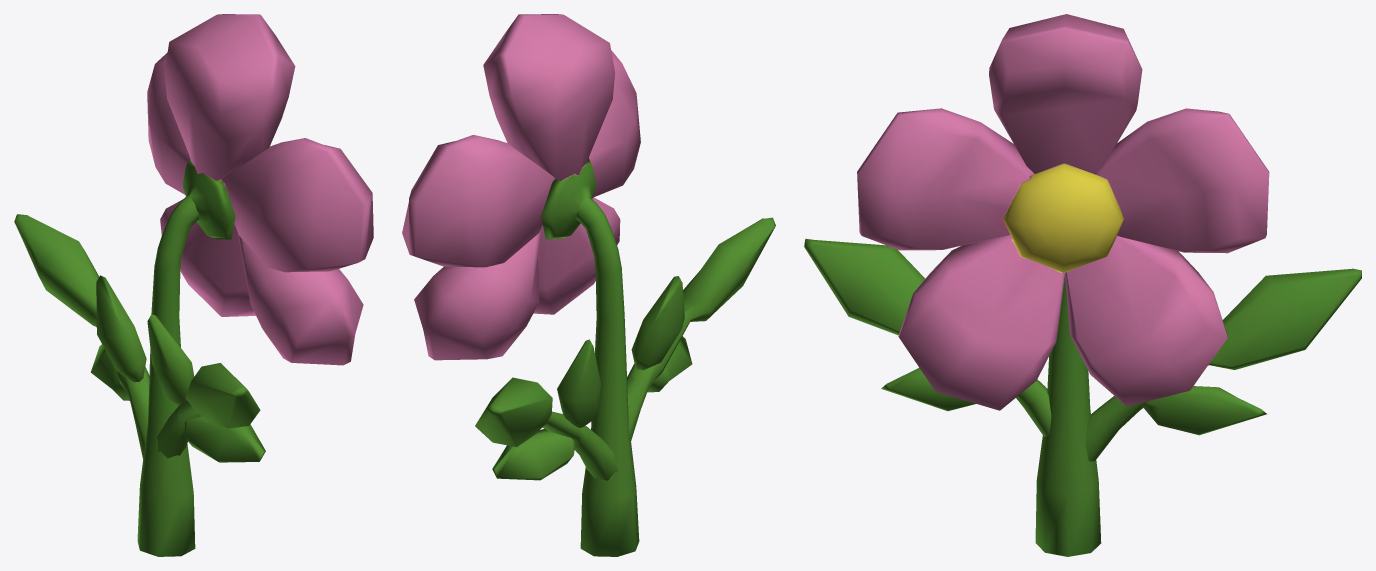
The model's file is 98f722b3-8eba-4d54-9059-19a11a6267e5_model.glb.
3 views of the same model, side by side, from view 1: azimuth 30°, elevation 25°; view 2: azimuth 150°, elevation 25°; view 3: azimuth 270°, elevation 25° (orthographic). The views are drawn at different scales.
Parts seen in each view (by area): view 1: tripo_node_98f722b3-8eba-4d54-9059-19a11a6267e5; view 2: tripo_node_98f722b3-8eba-4d54-9059-19a11a6267e5; view 3: tripo_node_98f722b3-8eba-4d54-9059-19a11a6267e5.
Part boxes in pixels (x1,y1,x2,y2): tripo_node_98f722b3-8eba-4d54-9059-19a11a6267e5: (14, 14, 373, 556); tripo_node_98f722b3-8eba-4d54-9059-19a11a6267e5: (402, 14, 775, 556); tripo_node_98f722b3-8eba-4d54-9059-19a11a6267e5: (804, 14, 1361, 556).
Size of the model in its own units: 0.1031 by 0.25 by 0.2244.
Materials: 1 (1 with a texture image).
